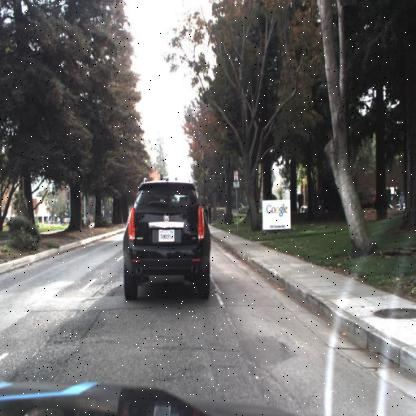car: (120, 176, 210, 299)
trafficLight-Green: (158, 173, 163, 184), (174, 175, 178, 183)
